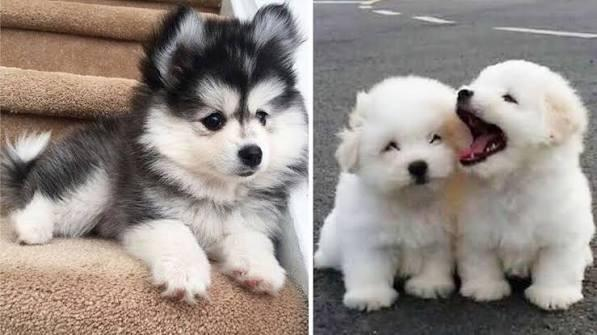puppy-dog: (1, 1, 308, 303), (313, 74, 472, 311), (451, 58, 595, 311)
